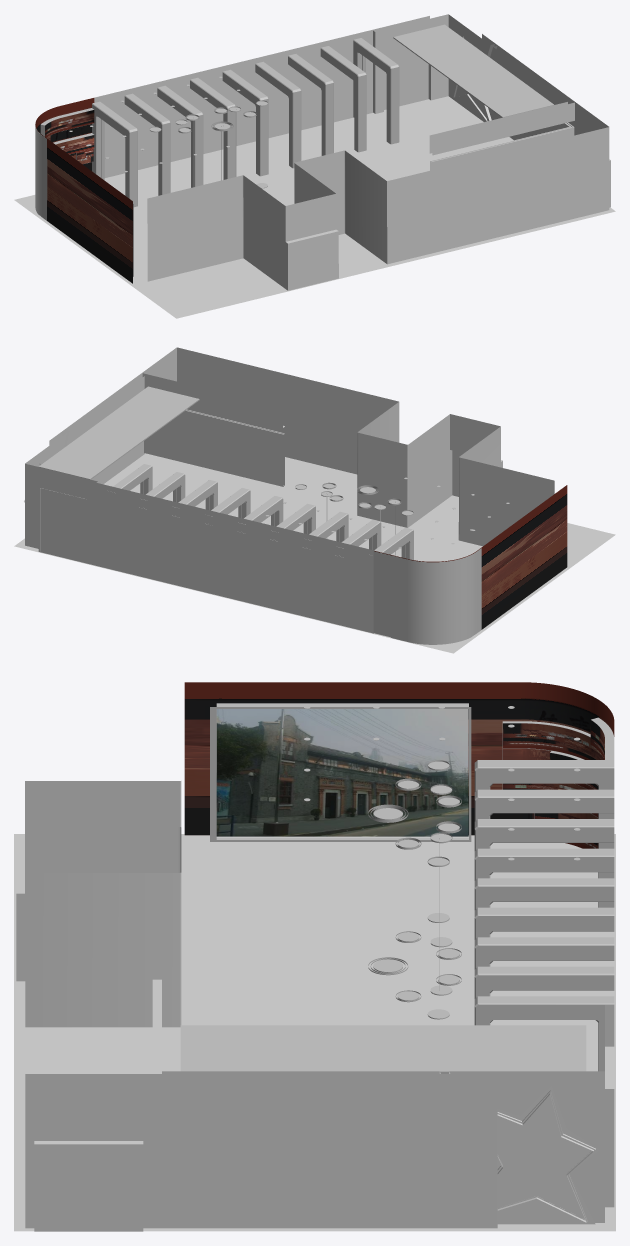
The picture shows the model from 3 angles, top to bottom: view 1: azimuth 30°, elevation 25°; view 2: azimuth 150°, elevation 25°; view 3: azimuth 270°, elevation 25°; orthographic projection. The views are drawn at different scales.
Parts seen in each view (by area): view 1: Cube, Floor_2, Hall, Obj3d66-4762878-27-318, Obj3d66-4762878-40-371, Obj3d66-4762878-78-575, Obj3d66-4762878-14-964, Obj3d66-4762878-114-167, Obj3d66-4762878-19-211; view 2: Cube, Floor_2, Obj3d66-4762878-27-318, Obj3d66-4762878-19-211, Obj3d66-4762878-40-371, Hall, Obj3d66-4762878-78-575, Obj3d66-4762878-114-167; view 3: Cube, Floor_2, Hall, Obj3d66-4762878-135-466, Obj3d66-4762878-78-575, Obj3d66-4762878-40-371, Obj3d66-4762878-27-318, Obj3d66-4762878-114-167, Obj3d66-4762878-14-964, Obj3d66-4762878-4-11.
Part boxes in pixels (box(x1,y1,x2,y2)): Cube: box(94, 16, 610, 290); Floor_2: box(14, 96, 615, 318); Hall: box(92, 38, 399, 207); Obj3d66-4762878-27-318: box(373, 14, 574, 170); Obj3d66-4762878-40-371: box(35, 98, 132, 283); Obj3d66-4762878-78-575: box(393, 24, 553, 117); Obj3d66-4762878-14-964: box(37, 108, 94, 214); Obj3d66-4762878-114-167: box(69, 76, 267, 188); Obj3d66-4762878-19-211: box(35, 126, 46, 220); Cube: box(38, 347, 554, 633); Floor_2: box(14, 453, 615, 653); Obj3d66-4762878-27-318: box(24, 373, 285, 551); Obj3d66-4762878-19-211: box(373, 548, 481, 644); Obj3d66-4762878-40-371: box(374, 485, 567, 629); Hall: box(113, 464, 413, 559); Obj3d66-4762878-78-575: box(39, 386, 199, 479); Obj3d66-4762878-114-167: box(266, 477, 509, 555); Cube: box(16, 781, 598, 1231); Floor_2: box(14, 834, 615, 1231); Hall: box(474, 760, 614, 1071); Obj3d66-4762878-135-466: box(216, 709, 468, 836); Obj3d66-4762878-78-575: box(180, 1025, 586, 1073); Obj3d66-4762878-40-371: box(184, 682, 614, 835); Obj3d66-4762878-27-318: box(152, 979, 614, 1222); Obj3d66-4762878-114-167: box(304, 704, 580, 1019); Obj3d66-4762878-14-964: box(502, 717, 614, 848); Obj3d66-4762878-4-11: box(210, 703, 471, 841).
Bounding box in the file's own units: 3032 × 549 × 1939.
